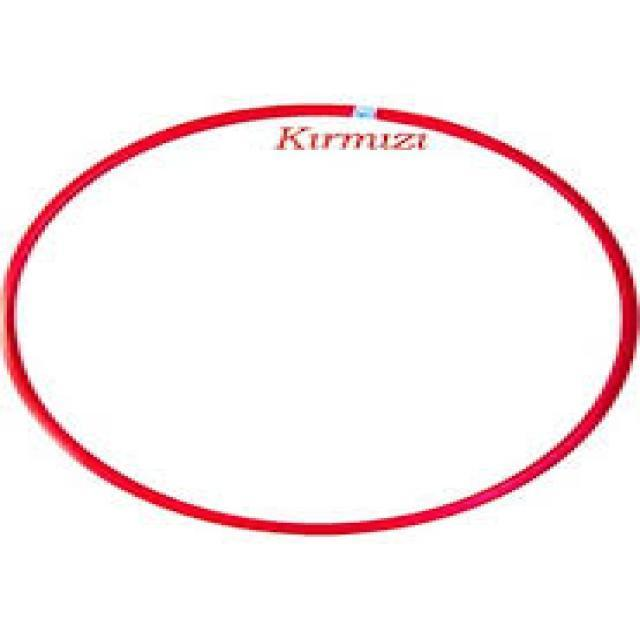Circle: (0, 100, 639, 536)
